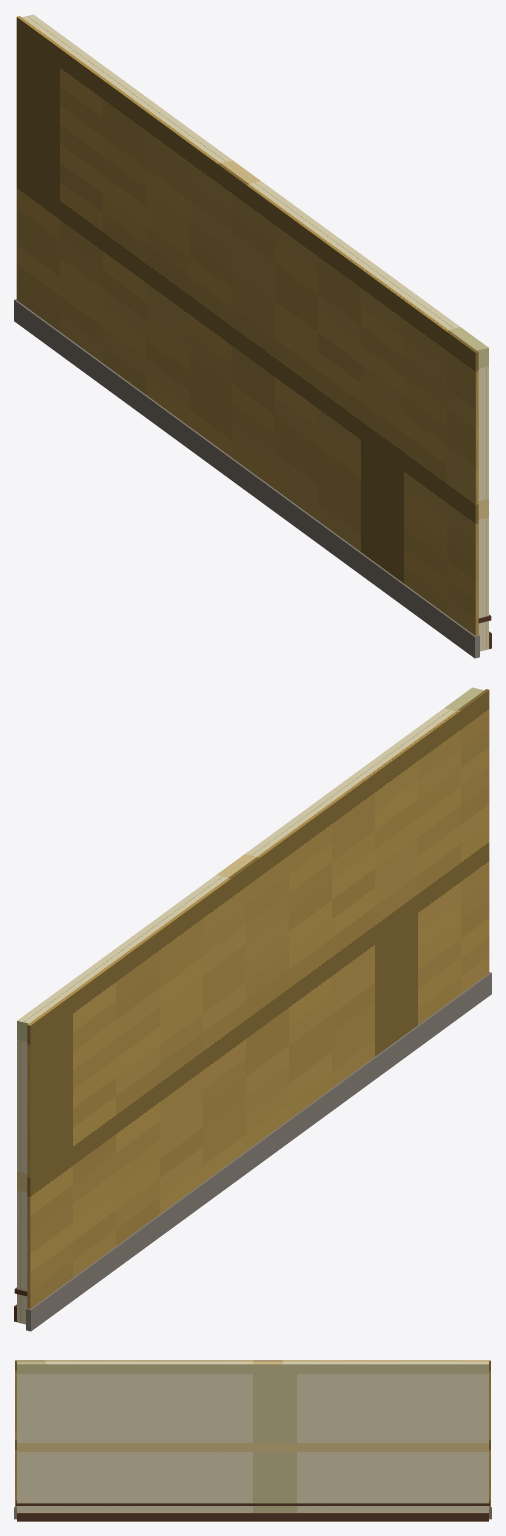
The model's file is left.glb.
The picture shows the model from 3 angles, top to bottom: view 1: azimuth 30°, elevation 25°; view 2: azimuth 150°, elevation 25°; view 3: azimuth 270°, elevation 25°; orthographic projection. The views are drawn at different scales.
Parts seen in each view (by area): view 1: Box3, Box4, Box1; view 2: Box3, Box4, Box1; view 3: Box1, Box2, Box3, Box6, Box5.
Part boxes in pixels (box(x1,y1,x2,y2)): Box3: box(16, 16, 478, 635); Box4: box(14, 299, 479, 658); Box1: box(22, 14, 488, 651); Box3: box(27, 689, 489, 1308); Box4: box(26, 972, 491, 1331); Box1: box(17, 687, 483, 1324); Box1: box(17, 1361, 488, 1512); Box2: box(17, 1513, 488, 1521); Box3: box(15, 1360, 490, 1507); Box6: box(16, 1500, 489, 1505); Box5: box(19, 1506, 488, 1512).
Size of the model in its own units: 0.25 by 3.64 by 9.97.
Materials: 4 (2 with a texture image).
